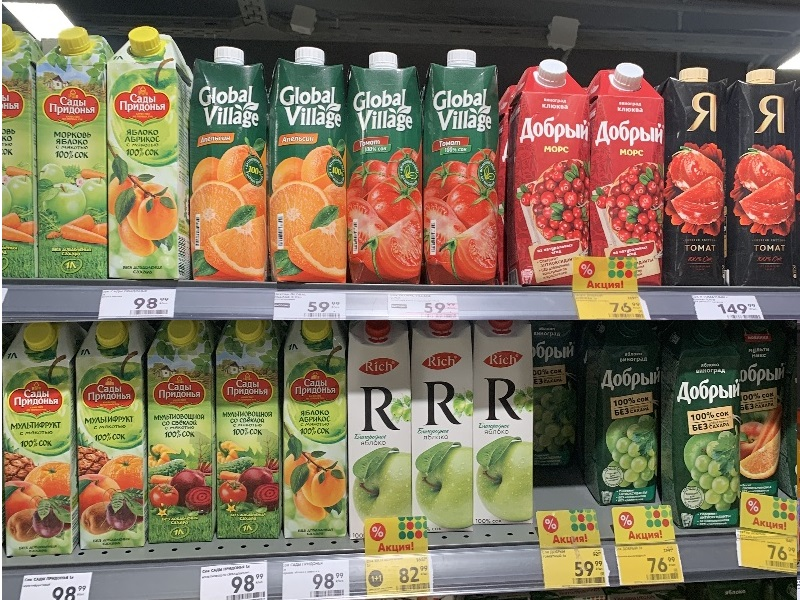juice: (103, 22, 204, 291), (176, 46, 278, 289), (256, 46, 354, 292), (25, 25, 117, 286), (338, 48, 436, 292), (414, 50, 512, 293), (137, 319, 231, 551), (67, 317, 157, 558), (501, 63, 594, 293), (648, 61, 740, 293), (586, 59, 676, 294), (650, 319, 748, 534), (4, 316, 86, 561), (275, 318, 360, 550), (715, 69, 799, 294), (211, 321, 289, 553), (340, 318, 419, 537), (407, 319, 482, 537), (468, 316, 541, 535)
